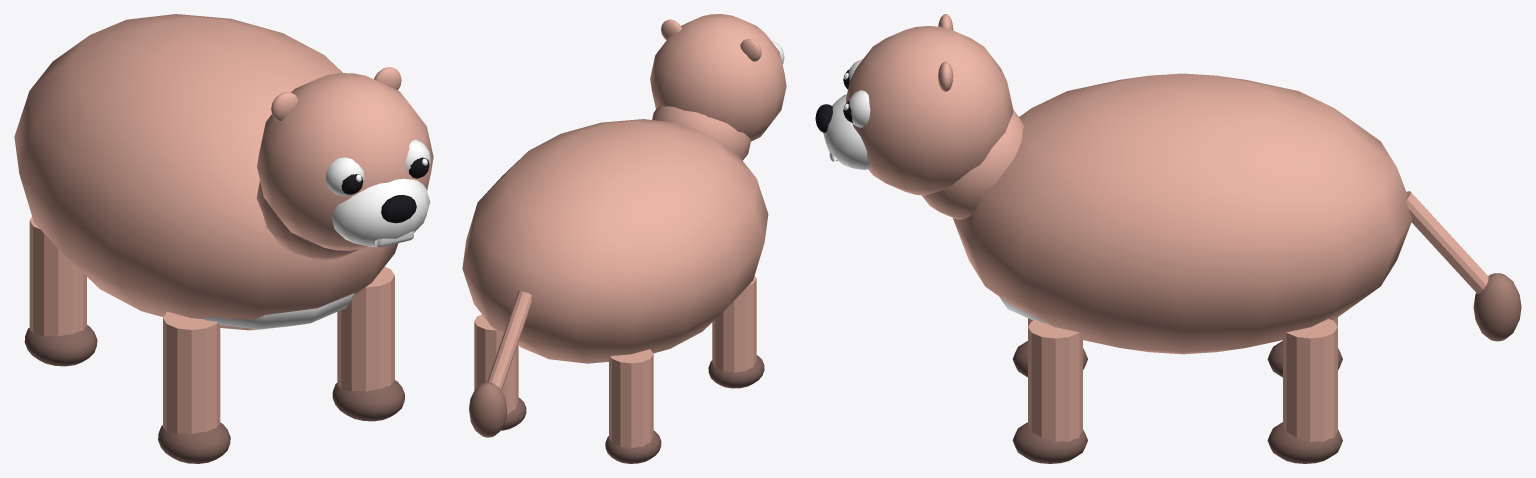
The picture shows the model from 3 angles, left to right: view 1: azimuth 30°, elevation 25°; view 2: azimuth 150°, elevation 25°; view 3: azimuth 270°, elevation 25°; orthographic projection. The views are drawn at different scales.
Parts seen in each view (by area): view 1: Mole Rat; view 2: Mole Rat; view 3: Mole Rat.
Boxes of the visible parts, x1,y1,x2,y2 form: Mole Rat: (14, 14, 433, 463); Mole Rat: (462, 14, 786, 463); Mole Rat: (815, 14, 1521, 463).
Bounding box in the file's own units: 2.04 × 2.47 × 4.11.
1 material, 1 textured.
